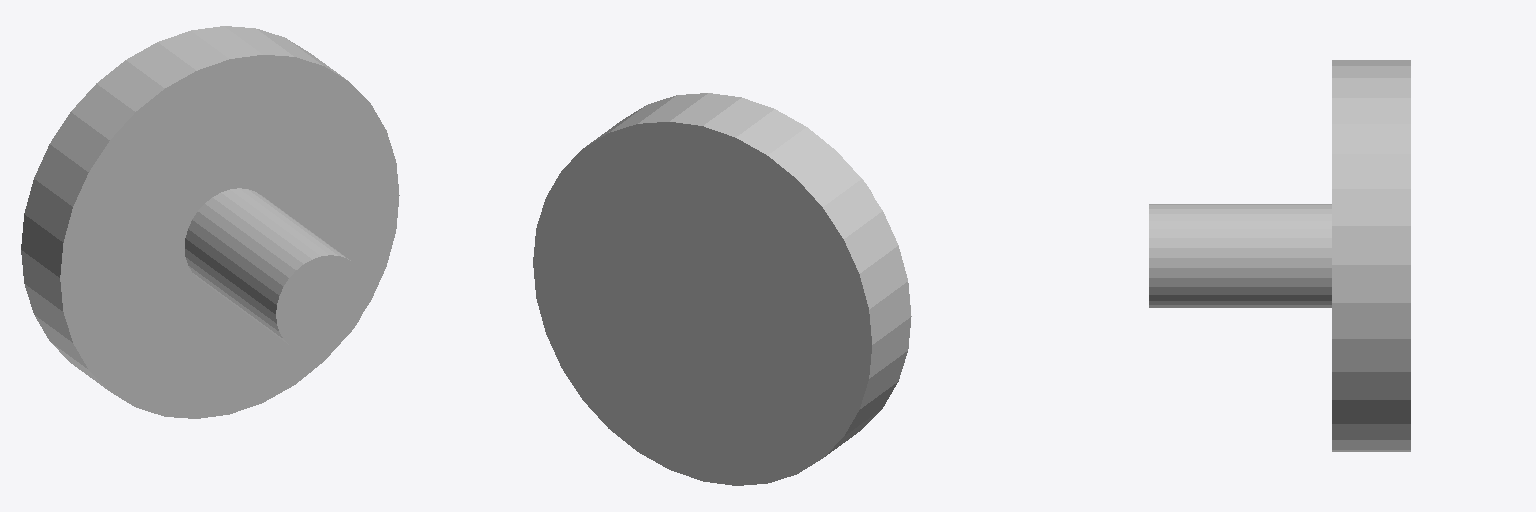
File: maillet.obj
3 views of the same model, side by side, from view 1: azimuth 30°, elevation 25°; view 2: azimuth 150°, elevation 25°; view 3: azimuth 270°, elevation 25° (orthographic).
Visible parts, largest first — view 1: Cylinder, Cylinder.001; view 2: Cylinder, Cylinder.001; view 3: Cylinder, Cylinder.001.
Boxes of the visible parts, <box> form: Cylinder: <box>21,26,399,418</box>; Cylinder.001: <box>185,188,366,351</box>; Cylinder: <box>533,93,911,485</box>; Cylinder.001: <box>657,179,872,351</box>; Cylinder: <box>1332,60,1410,451</box>; Cylinder.001: <box>1149,204,1331,307</box>.
Bounding box in the file's own units: 15 × 15 × 10.